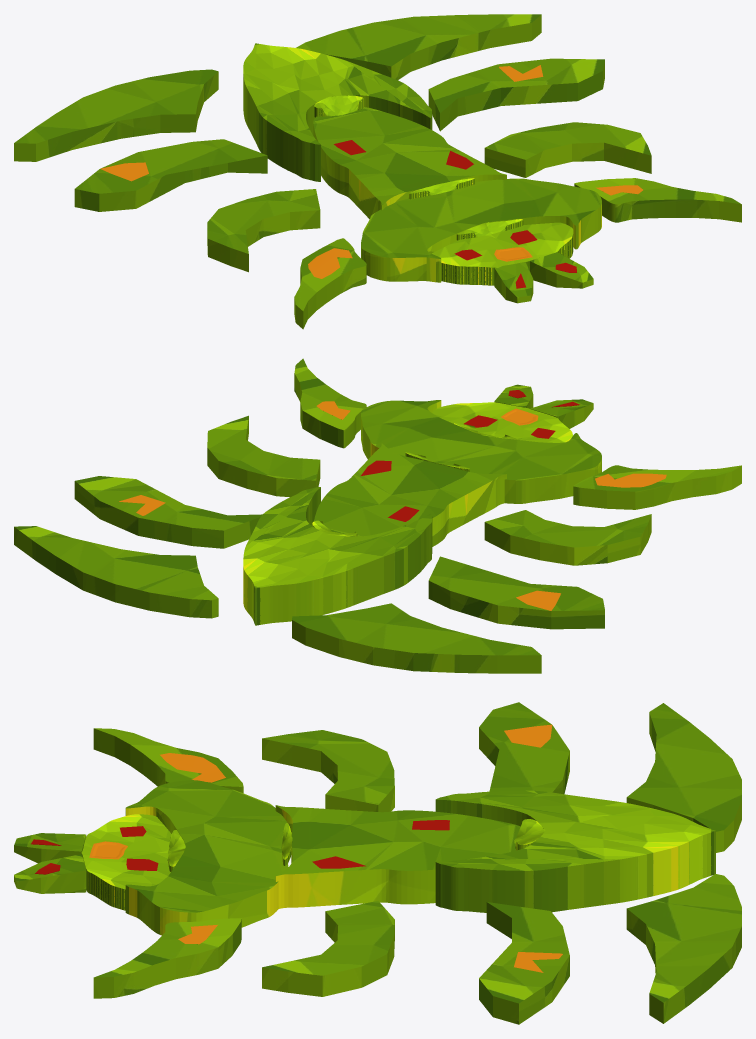
Rendered from Planet DarksonGood01.FBX.
3 renders of one model, top to bottom at view 1: azimuth 30°, elevation 25°; view 2: azimuth 150°, elevation 25°; view 3: azimuth 270°, elevation 25°, orthographic. The views are drawn at different scales.
Visible parts, largest first — view 1: Line053, Line057, Line056, Line061, minilandR5, Line062, minilandR4, minilandR3, minilandR2, Line052, minilandR, Line055 (+4 smaller); view 2: Line057, Line053, Line056, Line061, minilandR5, Line062, minilandR4, minilandR2, Line055, minilandR3, Line052, minilandR (+1 smaller); view 3: Line057, Line056, Line053, minilandR5, Line061, minilandR4, minilandR3, minilandR2, Line062, minilandR, Line052, Line055 (+2 smaller).
Part boxes in pixels (x1=…): Line053: x1=361, y1=178, x2=601, y2=282; Line057: x1=243, y1=43, x2=432, y2=181; Line056: x1=313, y1=107, x2=506, y2=218; Line061: x1=14, y1=69, x2=218, y2=161; minilandR5: x1=296, y1=14, x2=541, y2=80; Line062: x1=74, y1=139, x2=267, y2=211; minilandR4: x1=428, y1=58, x2=604, y2=131; minilandR3: x1=484, y1=122, x2=651, y2=177; minilandR2: x1=207, y1=189, x2=320, y2=272; Line052: x1=432, y1=222, x2=573, y2=285; minilandR: x1=574, y1=178, x2=741, y2=222; Line055: x1=294, y1=238, x2=366, y2=329; Line057: x1=243, y1=487, x2=432, y2=625; Line053: x1=361, y1=400, x2=601, y2=503; Line056: x1=314, y1=443, x2=506, y2=546; Line061: x1=292, y1=603, x2=541, y2=673; minilandR5: x1=14, y1=526, x2=218, y2=618; Line062: x1=428, y1=556, x2=604, y2=629; minilandR4: x1=74, y1=476, x2=262, y2=548; minilandR2: x1=484, y1=510, x2=651, y2=565; Line055: x1=573, y1=465, x2=741, y2=509; minilandR3: x1=207, y1=415, x2=320, y2=497; Line052: x1=432, y1=402, x2=572, y2=442; minilandR: x1=294, y1=358, x2=366, y2=448; Line057: x1=435, y1=790, x2=715, y2=912; Line056: x1=275, y1=805, x2=520, y2=908; Line053: x1=125, y1=780, x2=288, y2=935; minilandR5: x1=626, y1=874, x2=741, y2=1023; Line061: x1=626, y1=703, x2=741, y2=852; minilandR4: x1=479, y1=902, x2=569, y2=1024; minilandR3: x1=262, y1=901, x2=394, y2=996; minilandR2: x1=262, y1=730, x2=394, y2=812; Line062: x1=479, y1=702, x2=569, y2=794; minilandR: x1=93, y1=918, x2=241, y2=998; Line052: x1=81, y1=814, x2=171, y2=910; Line055: x1=93, y1=728, x2=243, y2=793.
Size of the model in its own units: 298 by 20.23 by 305.
Materials: 3 (1 with a texture image).
